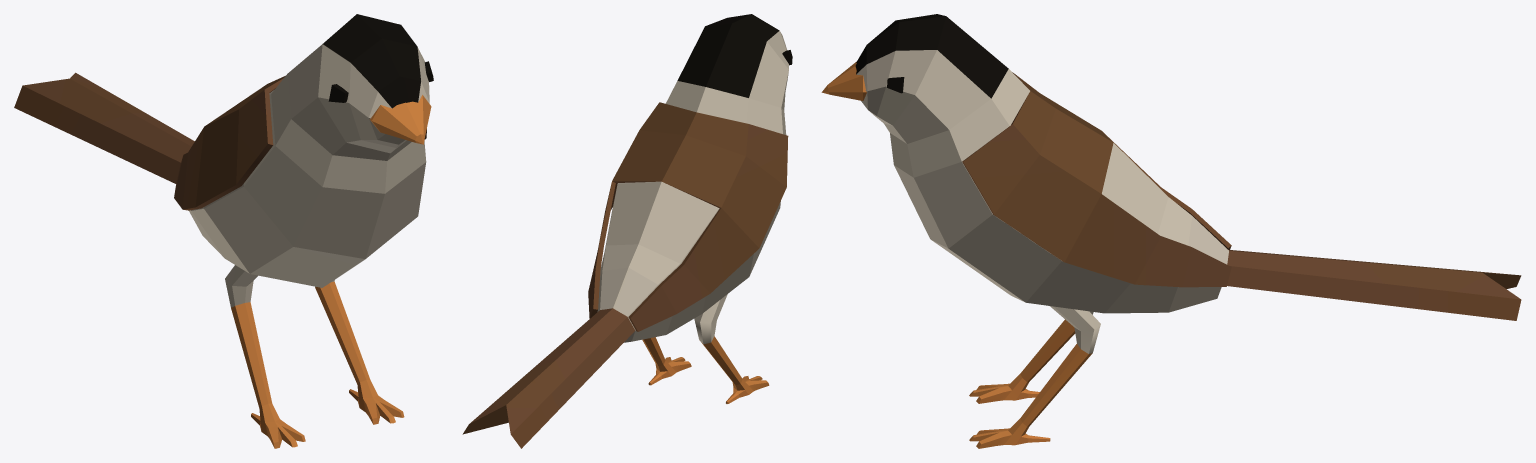
The model's file is sparrow.glb.
3 renders of one model, left to right at view 1: azimuth 30°, elevation 25°; view 2: azimuth 150°, elevation 25°; view 3: azimuth 270°, elevation 25°, orthographic. The views are drawn at different scales.
Visible parts, largest first — view 1: Geo_Sparrow; view 2: Geo_Sparrow; view 3: Geo_Sparrow.
Boxes of the visible parts, bbox=[...] form: Geo_Sparrow: bbox=[14, 14, 433, 448]; Geo_Sparrow: bbox=[462, 14, 792, 448]; Geo_Sparrow: bbox=[821, 14, 1521, 448].
Size of the model in its own units: 0.0618 by 0.13 by 0.2045.
Materials: 1 (1 with a texture image).
